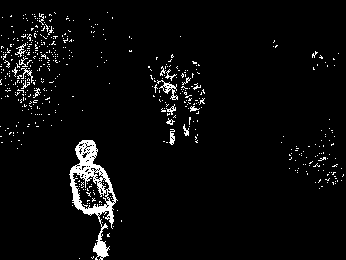person: (66, 138, 121, 260), (181, 75, 207, 146), (156, 74, 180, 144)
